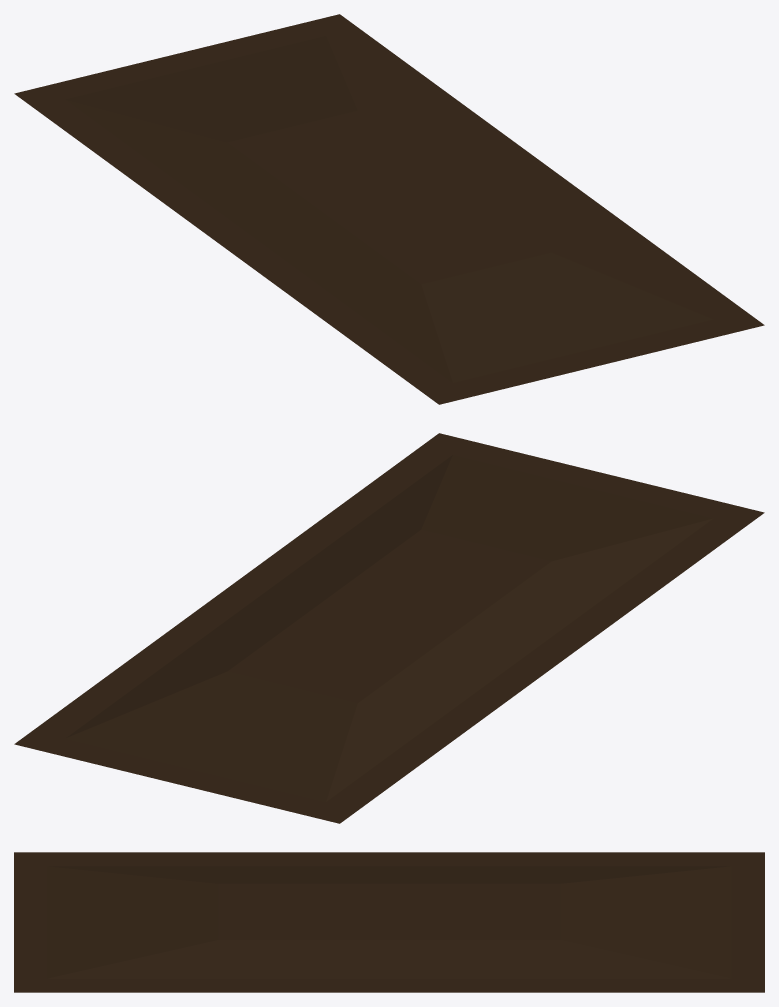
The model's file is Graveyard_Dirt_Mound_02.fbx.
The picture shows the model from 3 angles, top to bottom: view 1: azimuth 30°, elevation 25°; view 2: azimuth 150°, elevation 25°; view 3: azimuth 270°, elevation 25°; orthographic projection. The views are drawn at different scales.
Visible parts, largest first — view 1: Model; view 2: Model; view 3: Model.
Part boxes in pixels (box(x1,y1,x2,y2)): Model: box(14, 14, 764, 404); Model: box(14, 433, 764, 823); Model: box(14, 852, 764, 992).
Bounding box in the file's own units: 484 × 17 × 1094.
